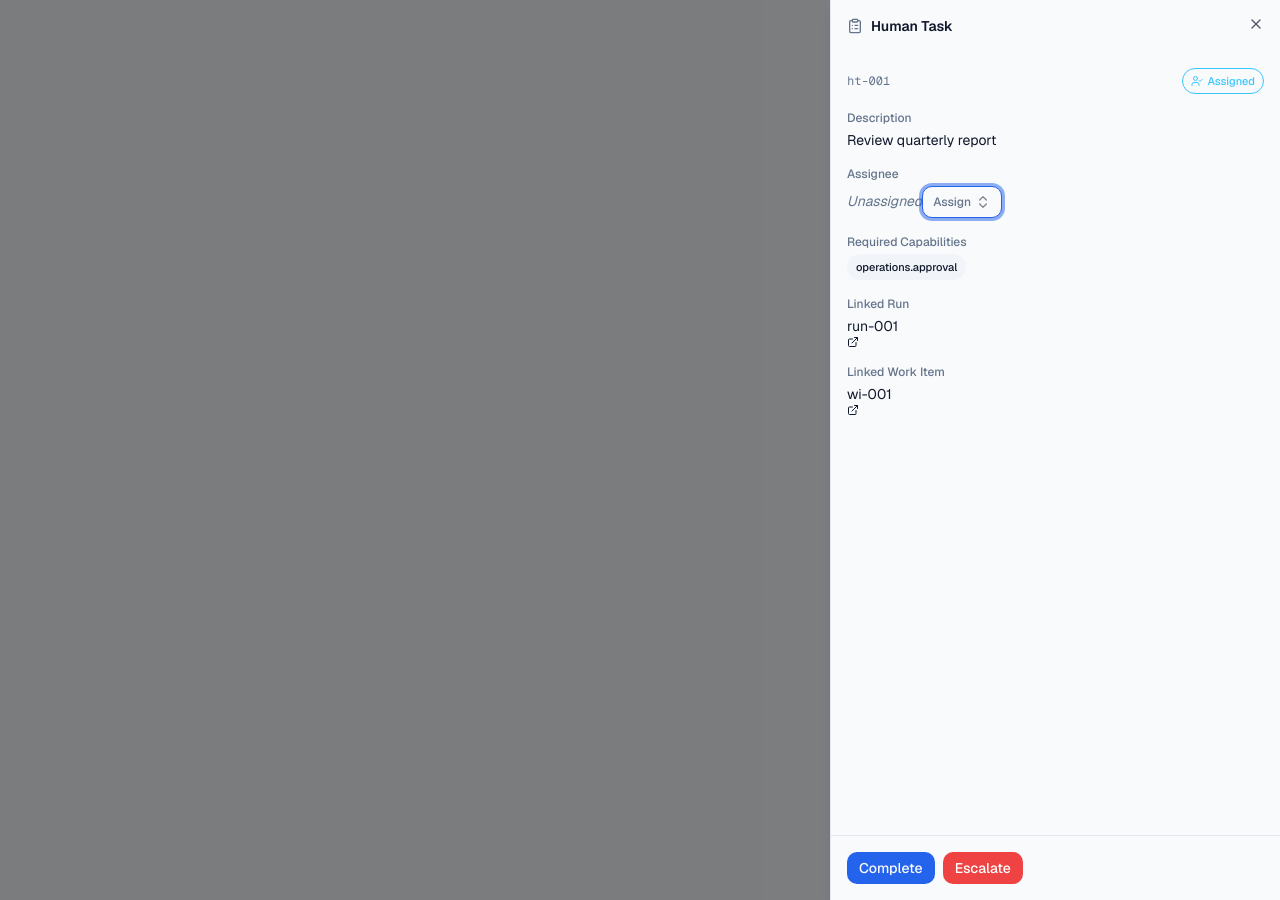
Test case: HumanTaskDrawer › shows complete form on Complete click
Click the button "Complete".
click(891, 868)  # box [847, 852, 935, 884]
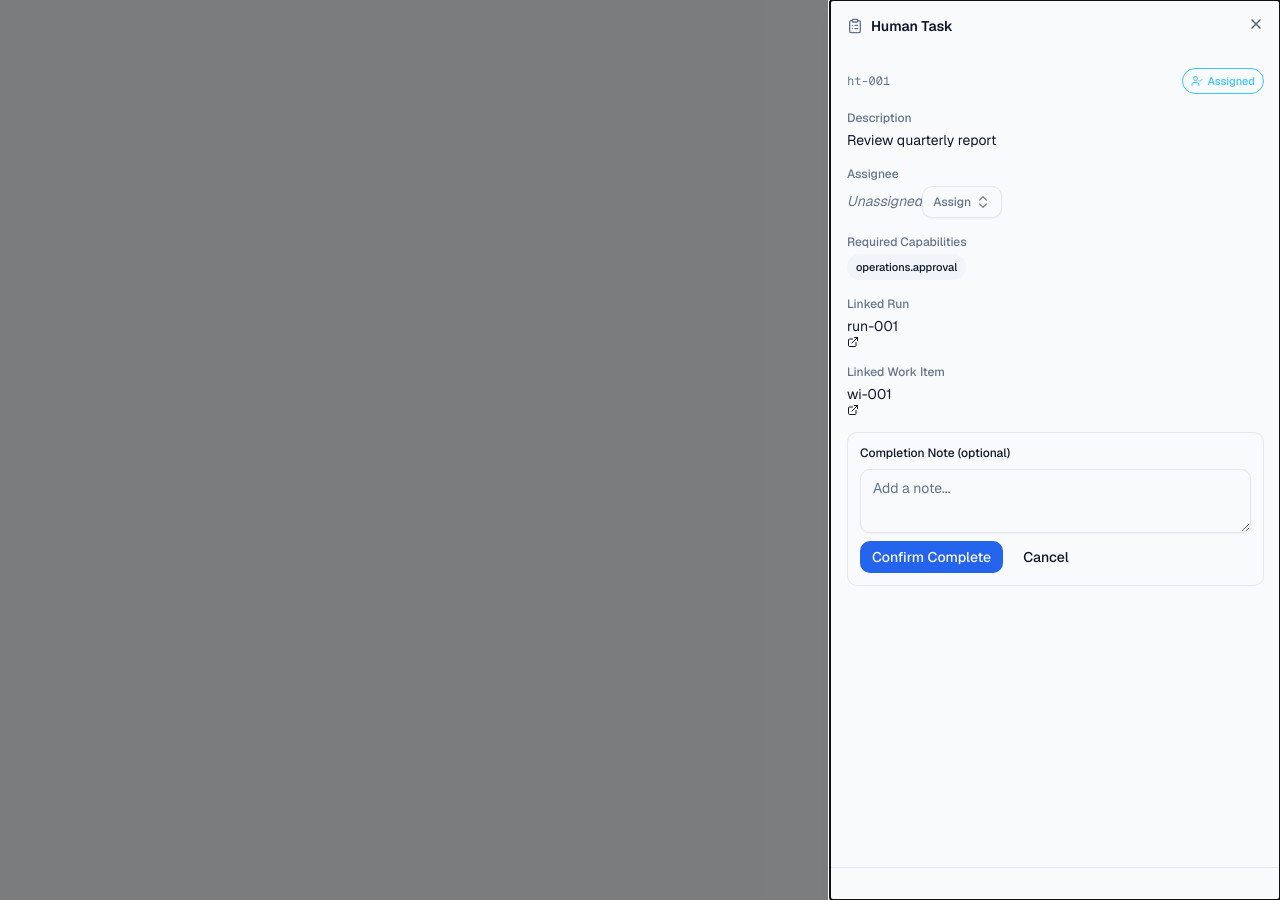
Now the button "Confirm Complete" is shown, box [860, 541, 1003, 573]
